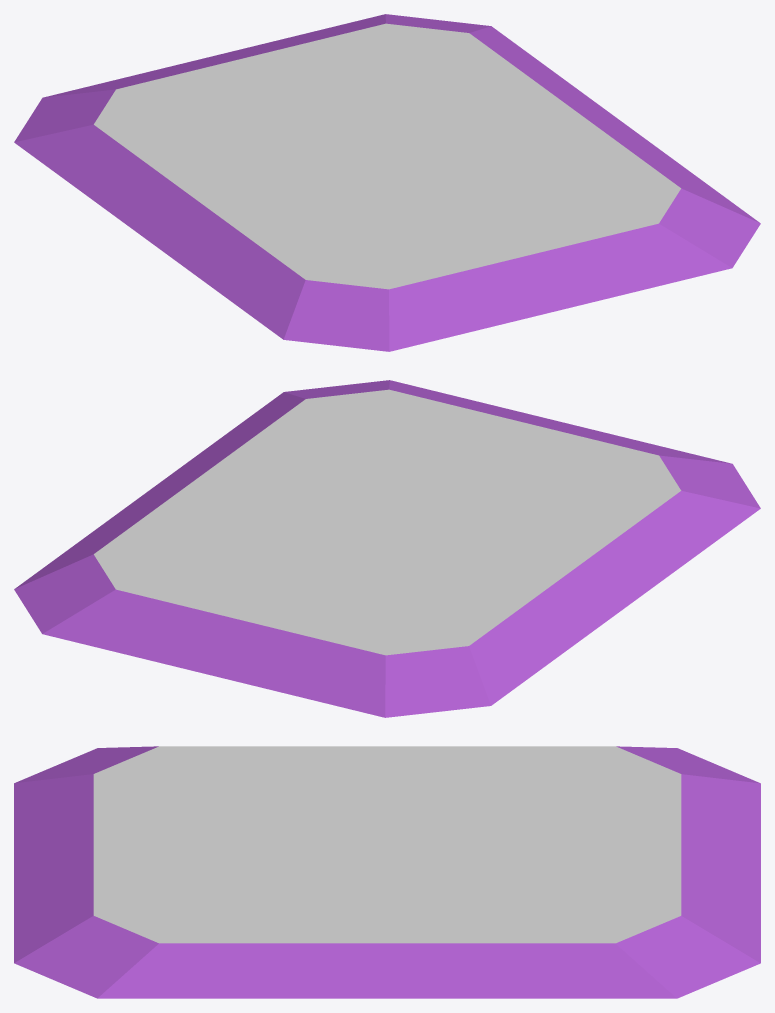
File: plateau.fbx
The picture shows the model from 3 angles, top to bottom: view 1: azimuth 30°, elevation 25°; view 2: azimuth 150°, elevation 25°; view 3: azimuth 270°, elevation 25°; orthographic projection. The views are drawn at different scales.
Parts seen in each view (by area): view 1: Circle; view 2: Circle; view 3: Circle.
Boxes of the visible parts, left/top/right/bottom form: Circle: left=14, top=14, right=760, bottom=351; Circle: left=14, top=380, right=760, bottom=717; Circle: left=14, top=746, right=760, bottom=998.
Size of the model in its own units: 385 by 20.39 by 485.
